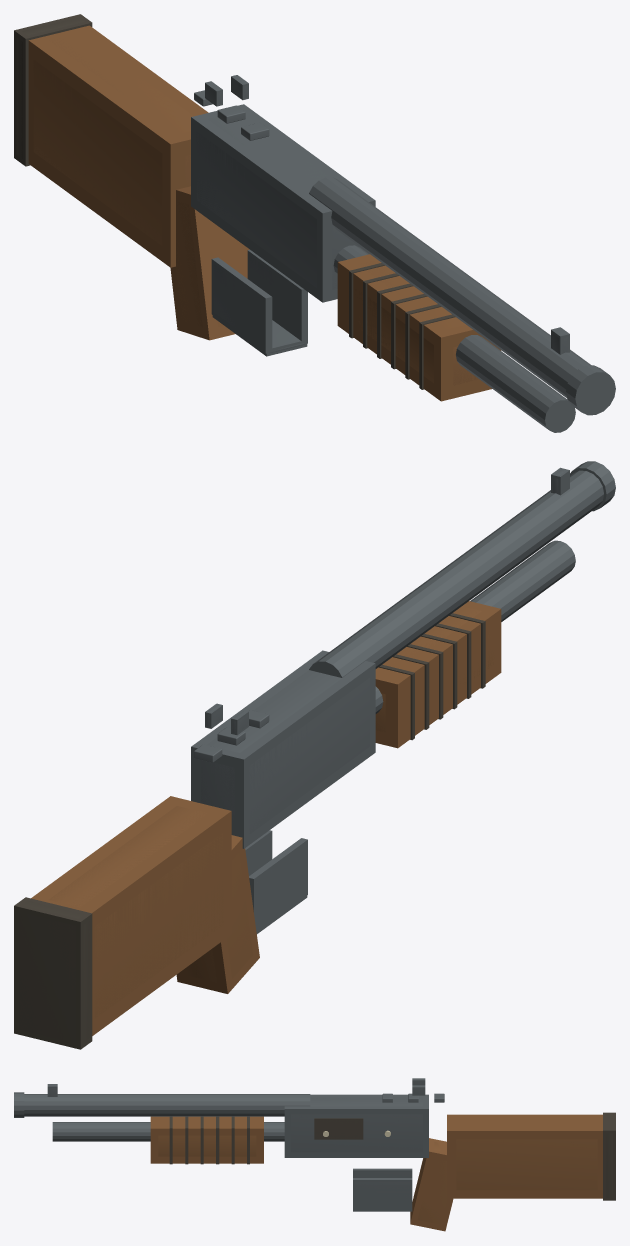
Rendered from PumpShotgun.glb.
3 renders of one model, top to bottom at view 1: azimuth 30°, elevation 25°; view 2: azimuth 150°, elevation 25°; view 3: azimuth 270°, elevation 25°, orthographic. The views are drawn at different scales.
Parts seen in each view (by area): view 1: LOD0_GunSteel, LOD1_ShotgunWood, LOD0_ShotgunWood, LOD1_GunSteel, LOD1_GunGrip, LOD0_GunGrip; view 2: LOD1_ShotgunWood, LOD0_GunSteel, LOD0_ShotgunWood, LOD1_GunSteel, LOD1_GunGrip, LOD0_GunGrip; view 3: LOD0_GunSteel, LOD1_ShotgunWood, LOD0_ShotgunWood, LOD1_GunSteel, LOD1_GunGrip, LOD0_GunGrip.
Part boxes in pixels (x1,y1,x2,y2): LOD0_GunSteel: [194, 76, 615, 432]; LOD1_ShotgunWood: [28, 25, 501, 401]; LOD0_ShotgunWood: [33, 32, 488, 385]; LOD1_GunSteel: [191, 75, 615, 432]; LOD1_GunGrip: [14, 14, 455, 389]; LOD0_GunGrip: [16, 17, 453, 388]; LOD1_ShotgunWood: [31, 601, 501, 1035]; LOD0_GunSteel: [194, 461, 615, 929]; LOD0_ShotgunWood: [48, 606, 493, 1018]; LOD1_GunSteel: [191, 467, 606, 933]; LOD1_GunGrip: [14, 613, 485, 1049]; LOD0_GunGrip: [19, 614, 484, 1043]; LOD0_GunSteel: [14, 1079, 444, 1203]; LOD1_ShotgunWood: [150, 1114, 602, 1231]; LOD0_ShotgunWood: [158, 1117, 597, 1224]; LOD1_GunSteel: [47, 1078, 428, 1211]; LOD1_GunGrip: [169, 1112, 615, 1200]; LOD0_GunGrip: [170, 1114, 612, 1197].
Size of the model in its own units: 0.082 by 0.3037 by 1.17.
